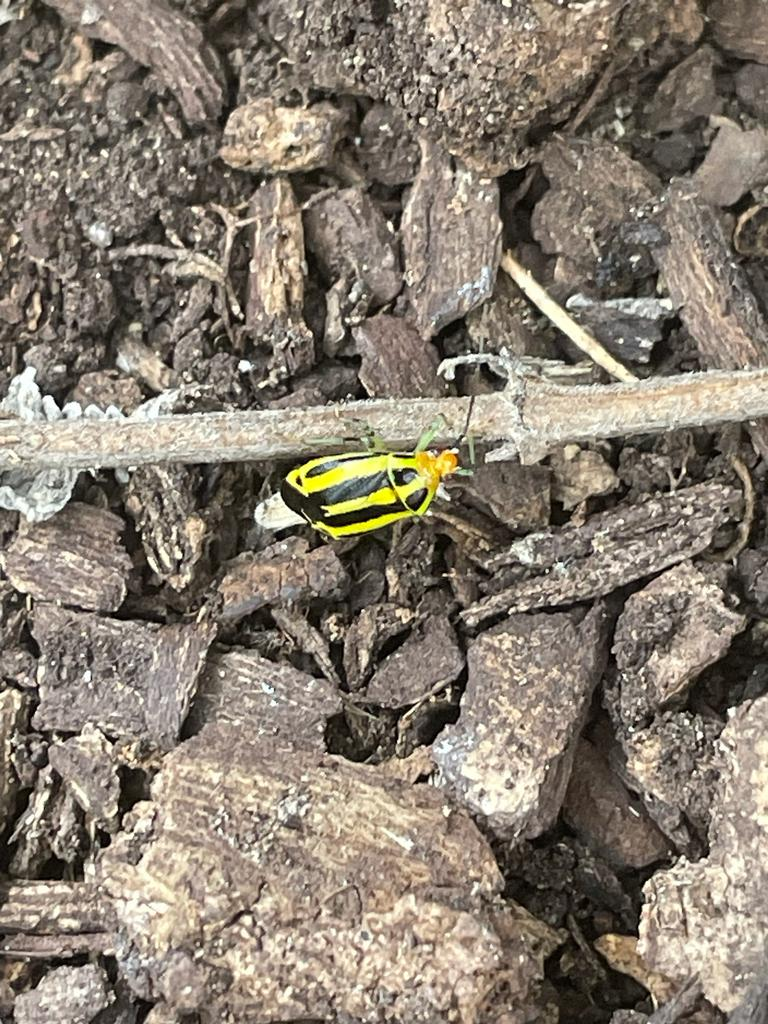plant_bugs: (239, 371, 517, 596)
